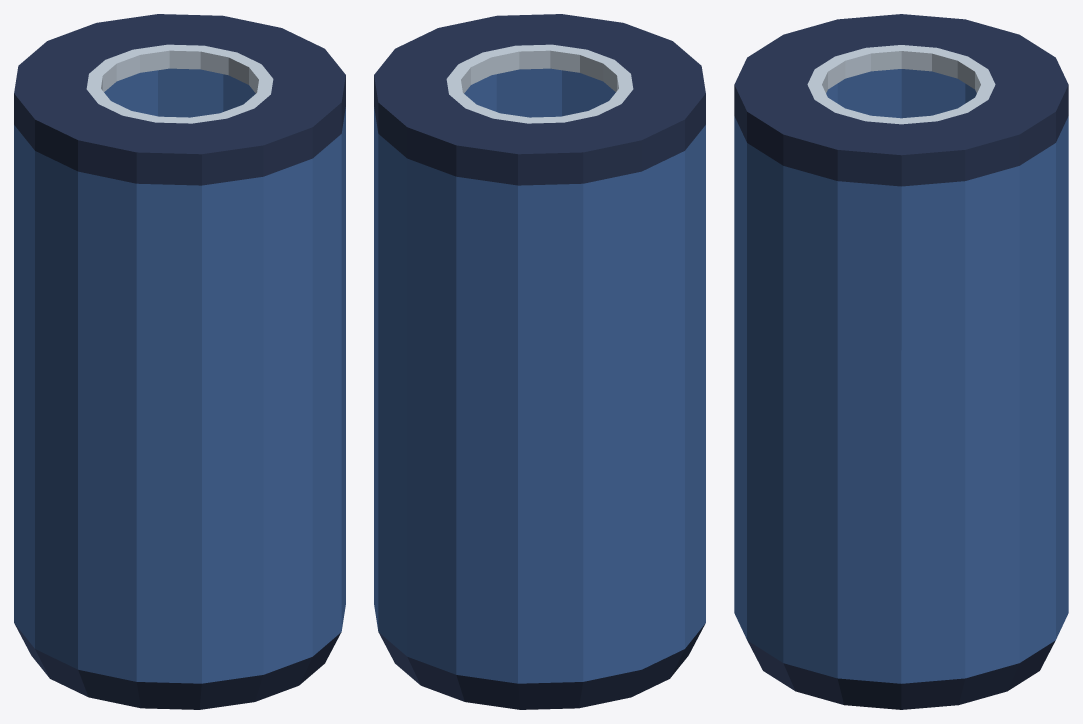
Rendered from TrashBinModel04.fbx.
The picture shows the model from 3 angles, left to right: view 1: azimuth 30°, elevation 25°; view 2: azimuth 150°, elevation 25°; view 3: azimuth 270°, elevation 25°; orthographic projection.
Parts seen in each view (by area): view 1: TrashBin04; view 2: TrashBin04; view 3: TrashBin04.
Part boxes in pixels (x1,y1,x2,y2): TrashBin04: [14, 14, 345, 709]; TrashBin04: [374, 14, 705, 709]; TrashBin04: [734, 14, 1068, 709].
Size of the model in its own units: 68.35 by 127 by 68.35.
